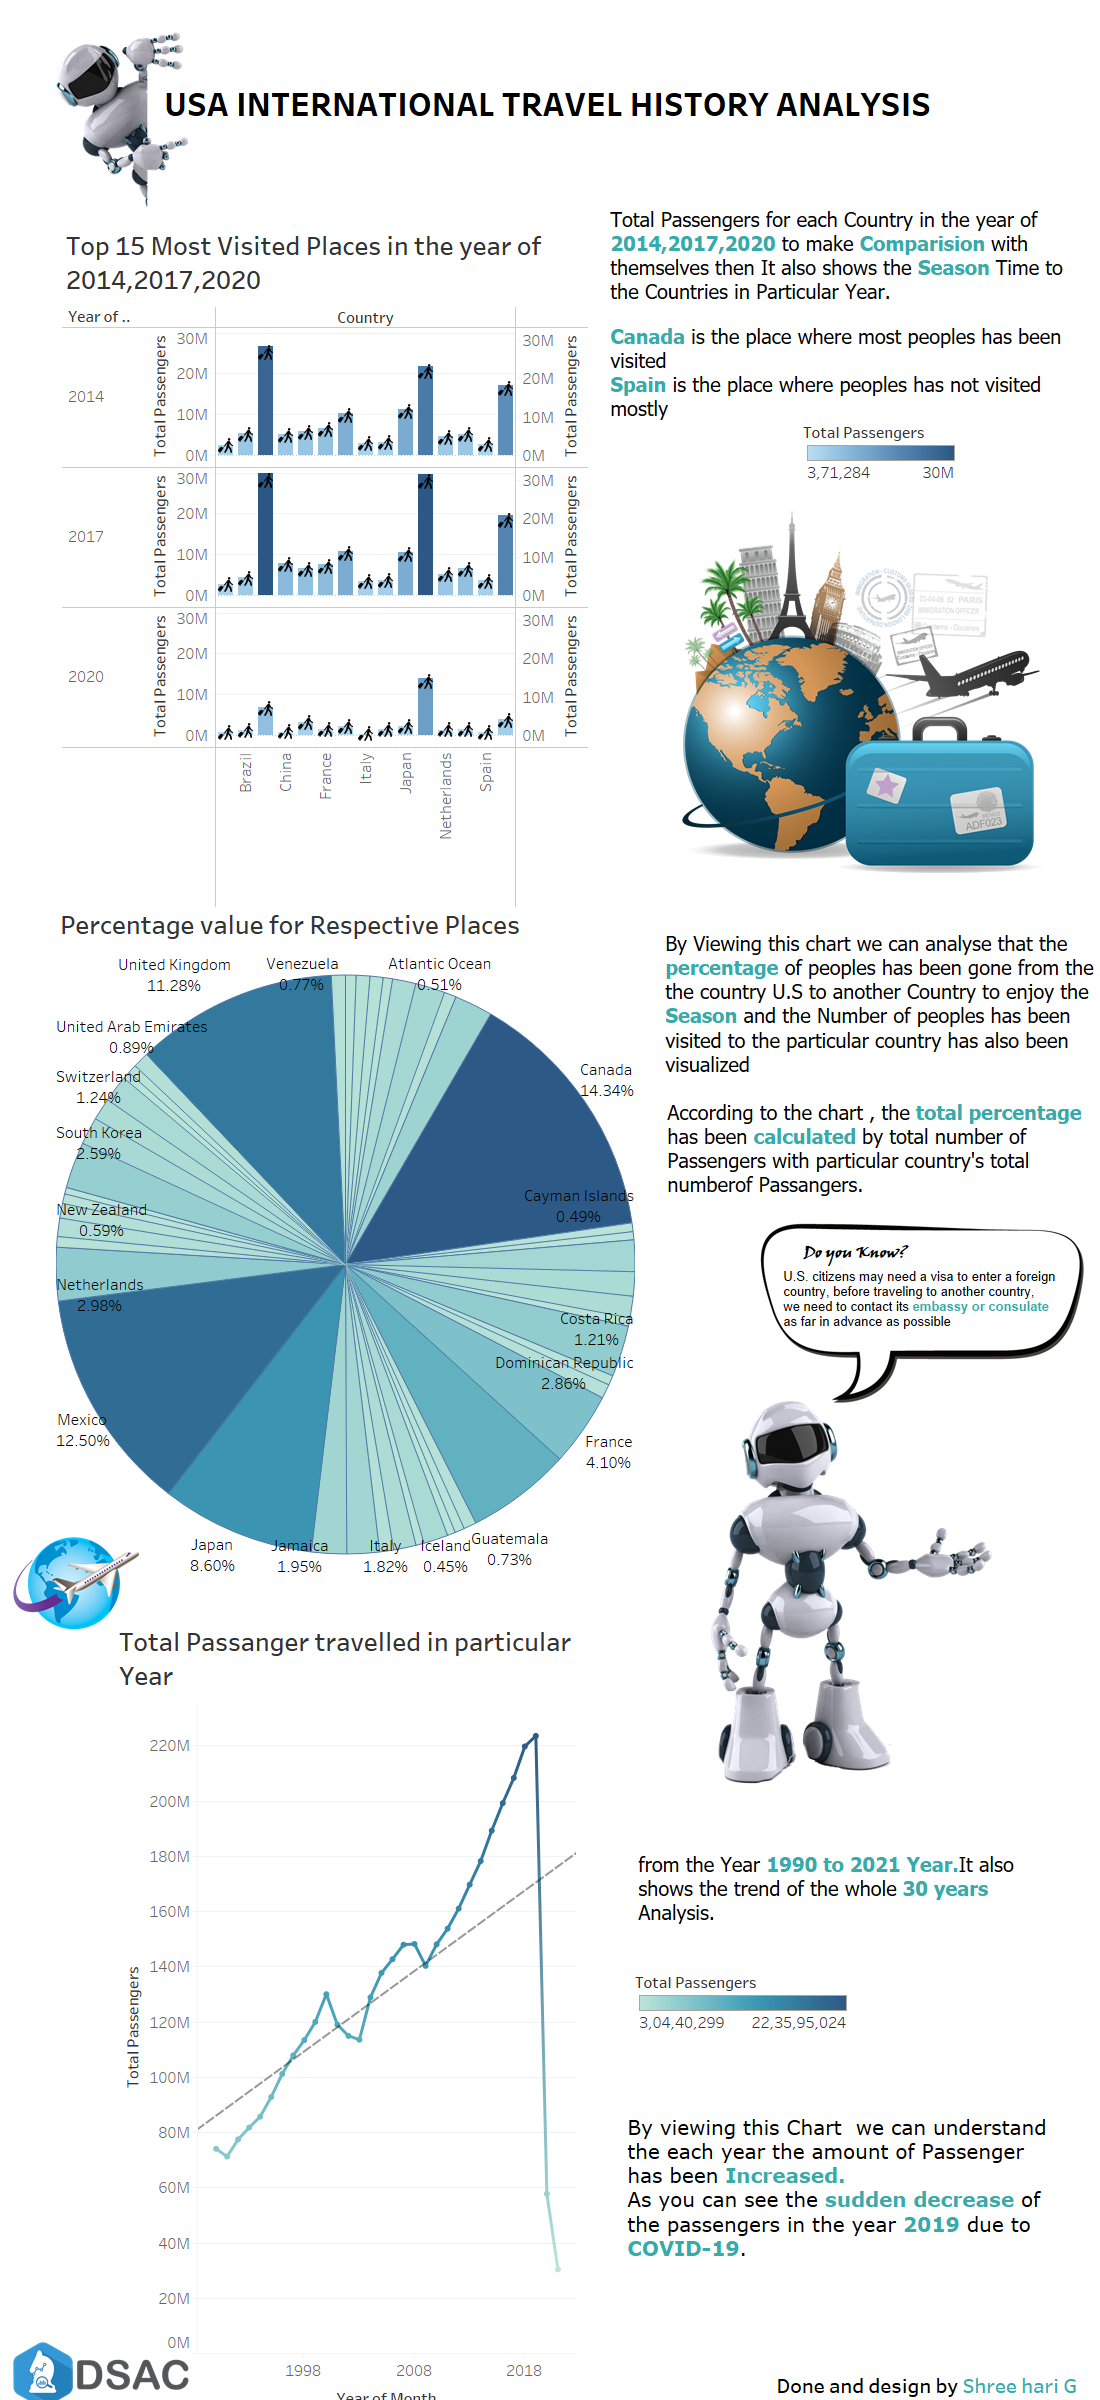

This screenshot's page, from the dashboard's own definition file:
{"tool":"tableau","page":{"name":"Dashboard 1","canvas":[1100,2400],"ordinal":0},"visuals":[{"type":"image","param":"Image/pngwing.com (1).png","box":[49,26,177,185]},{"type":"text","box":[115,47,865,112]},{"type":"text","box":[607,197,460,240]},{"type":"worksheet","title":"Top 15 Most Visited Places","mark":"Bar","rows":["Month","Total Passengers","Total Passengers"],"cols":["Country"],"box":[62,222,535,686]},{"type":"legend","title":"Top 15 Most Visited Places","param":"[federated.0zcg7fk08chq2f12njday161jhpl].[sum:Total Passengers:qk]","box":[803,418,156,88]},{"type":"image","param":"Image/favpng_travel-agent-tour-operator-flight-hotel.png","box":[682,511,367,575]},{"type":"worksheet","title":"Percentage value for Respective Places","mark":"Pie","box":[56,901,579,677]},{"type":"text","box":[664,1087,422,125]},{"type":"text","box":[800,1235,115,40]},{"type":"text","box":[780,1263,306,72]},{"type":"image","param":"Image/pngwing.com.png","box":[684,1389,366,405]},{"type":"image","param":"Image/travel-icon-png-4962.png","box":[13,1520,126,144]},{"type":"text","box":[635,1842,438,97]},{"type":"legend","title":"Total Passanger travelled in particular Year","param":"[federated.0zcg7fk08chq2f12njday161jhpl].[sum:Total Passengers:qk]","box":[635,1968,216,89]},{"type":"text","box":[624,2044,430,291]},{"type":"text","box":[773,2365,308,40]}]}

Visuals, with their boxes in screenshot pixels (x1, y1, x2, y2), scaled from the page's 1100x2400 canvas onto the 1100x2400 screenshot:
image: (left=49, top=26, right=226, bottom=211)
text: (left=115, top=47, right=980, bottom=159)
text: (left=607, top=197, right=1067, bottom=437)
"Top 15 Most Visited Places" worksheet (Bar marks): (left=62, top=222, right=597, bottom=908)
"Top 15 Most Visited Places" legend: (left=803, top=418, right=959, bottom=506)
image: (left=682, top=511, right=1049, bottom=1086)
"Percentage value for Respective Places" worksheet (Pie marks): (left=56, top=901, right=635, bottom=1578)
text: (left=664, top=1087, right=1086, bottom=1212)
text: (left=800, top=1235, right=915, bottom=1275)
text: (left=780, top=1263, right=1086, bottom=1335)
image: (left=684, top=1389, right=1050, bottom=1794)
image: (left=13, top=1520, right=139, bottom=1664)
text: (left=635, top=1842, right=1073, bottom=1939)
"Total Passanger travelled in particular Year" legend: (left=635, top=1968, right=851, bottom=2057)
text: (left=624, top=2044, right=1054, bottom=2335)
text: (left=773, top=2365, right=1081, bottom=2399)
